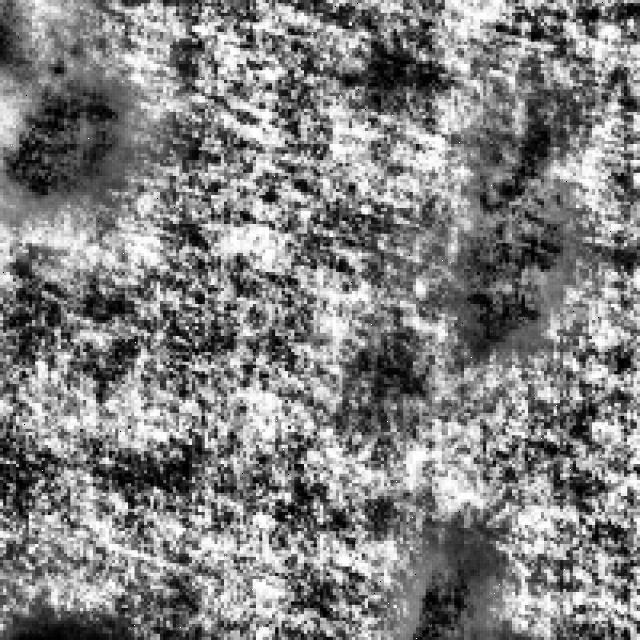Scratches: (458, 99, 576, 349), (7, 38, 132, 212), (420, 518, 524, 637)
